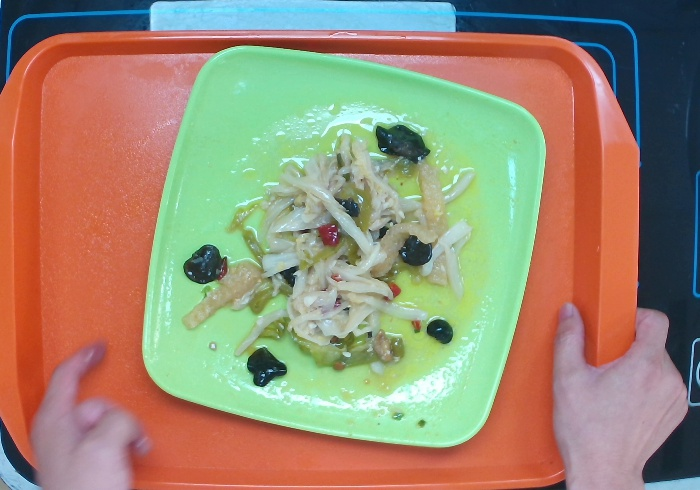ZNLD-Lv_Fang_Pan: (140, 42, 546, 454)
